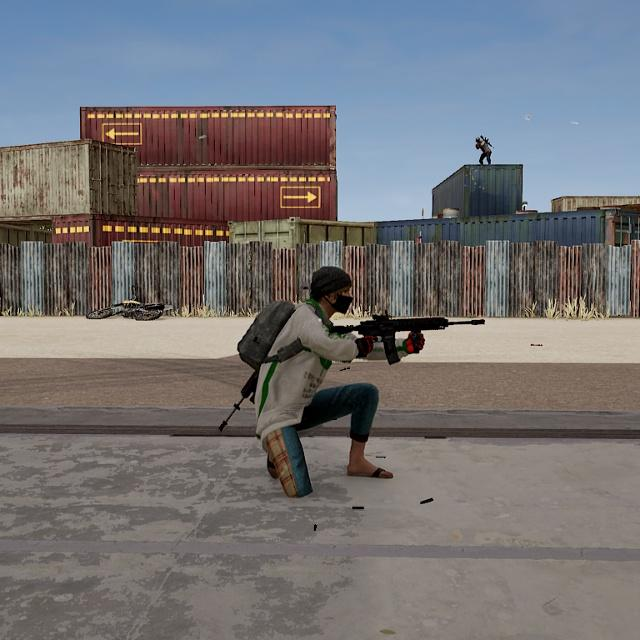head: (308, 260, 357, 325), (474, 136, 482, 144)
people: (229, 260, 409, 499), (472, 131, 497, 165)
